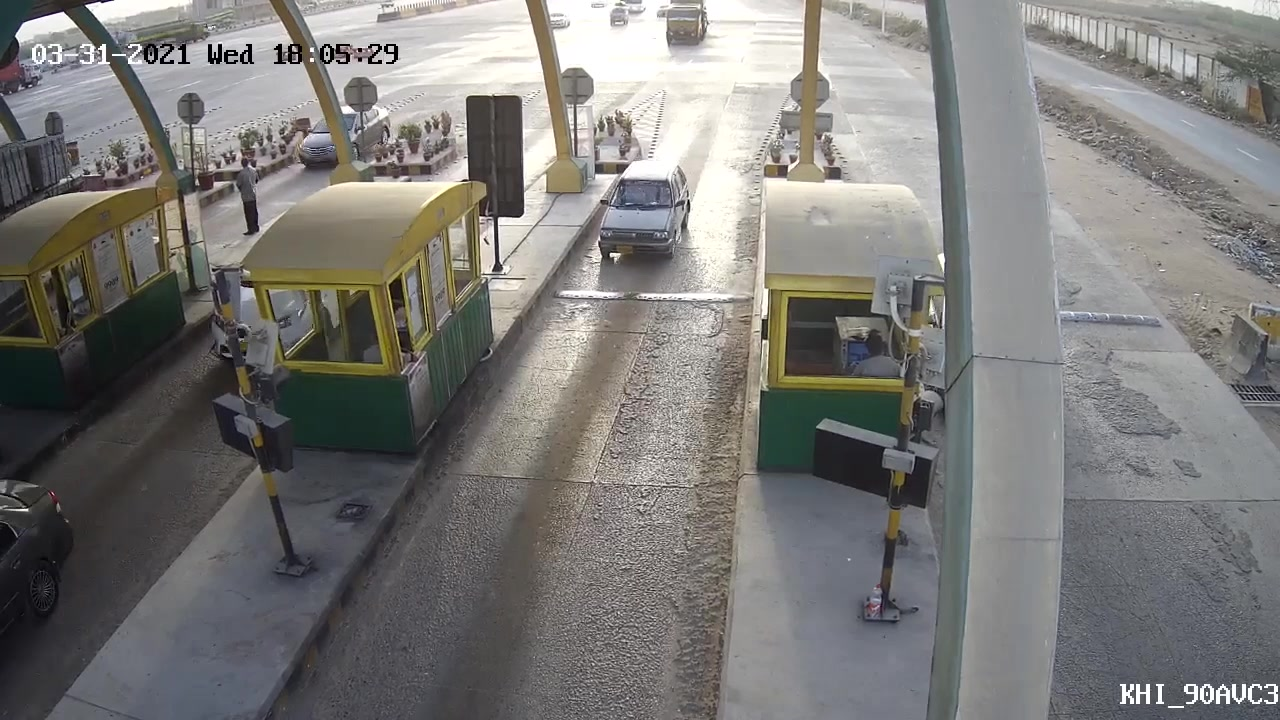F1: (585, 154, 698, 266)
